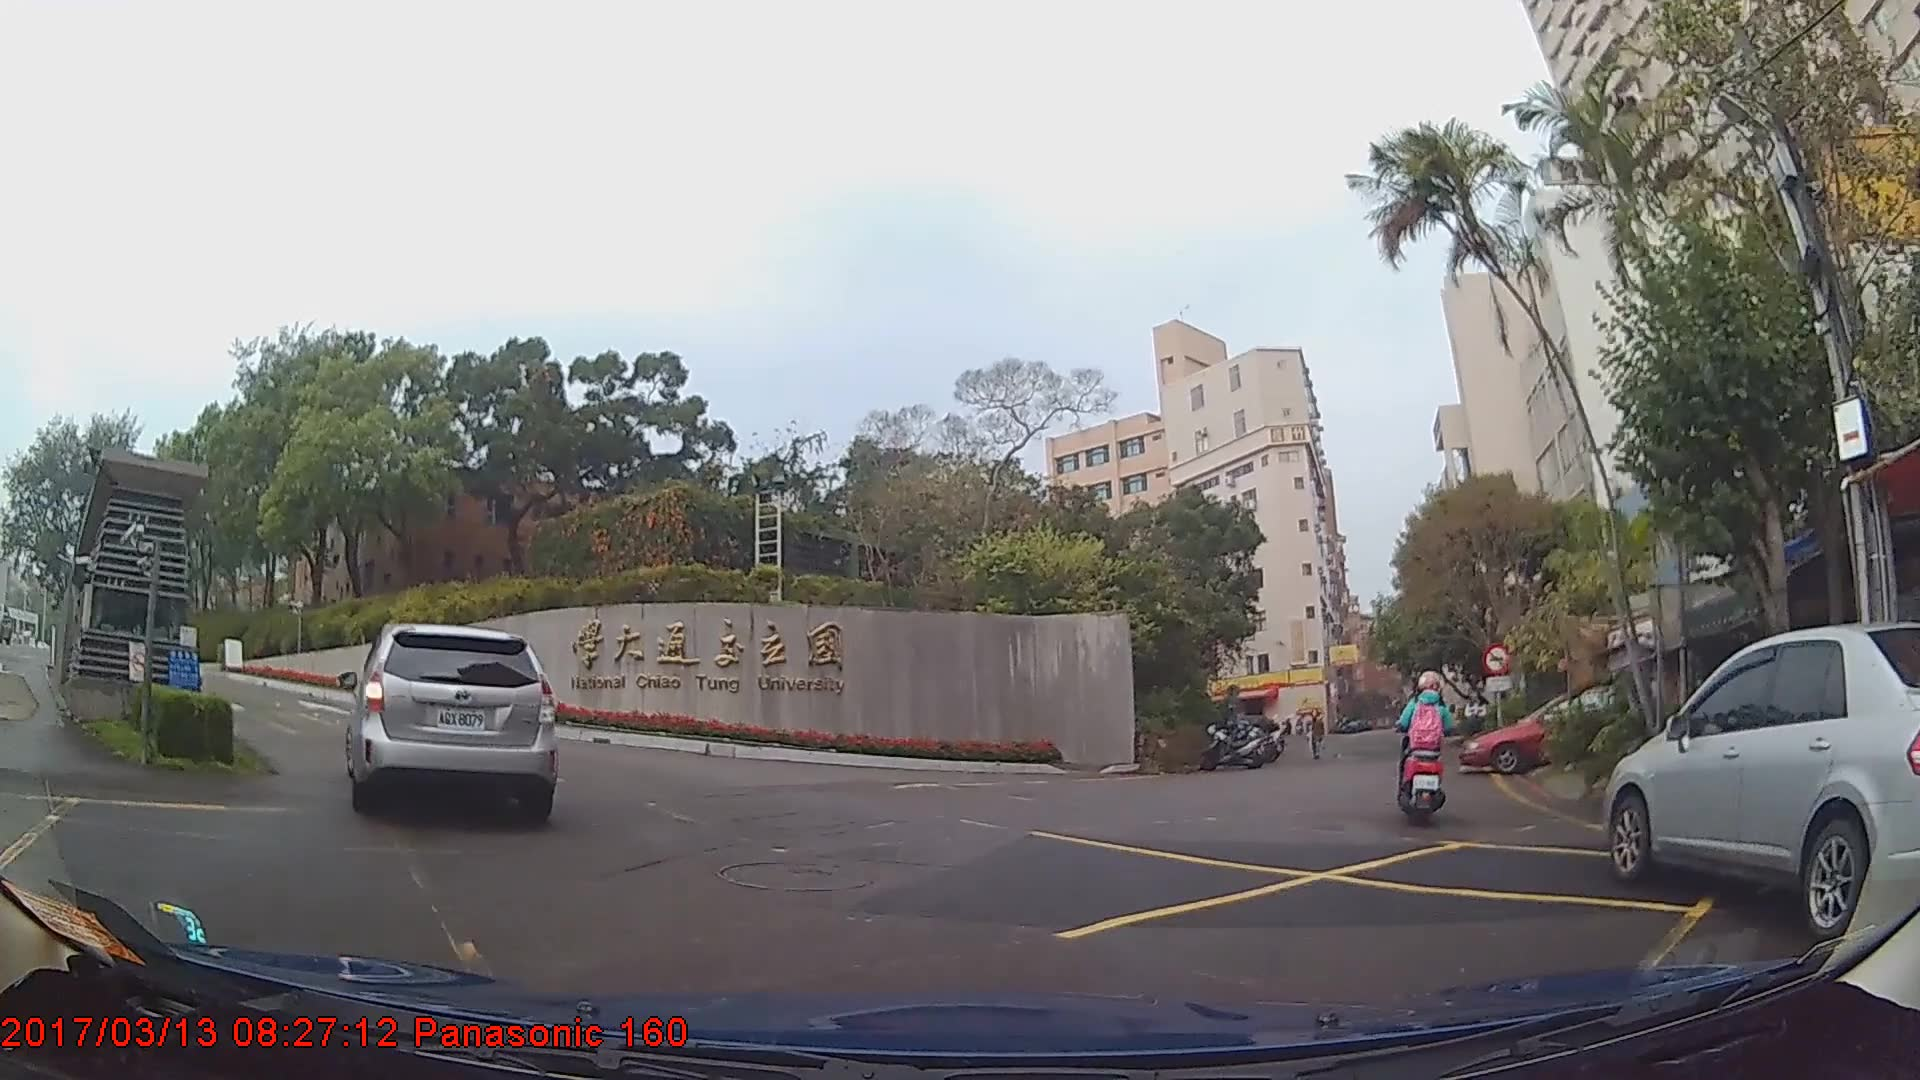pedestrian: (1306, 711, 1327, 765)
rider: (1391, 666, 1453, 830)
vehicle: (1604, 620, 1920, 942), (340, 618, 555, 826), (1461, 686, 1650, 774)
